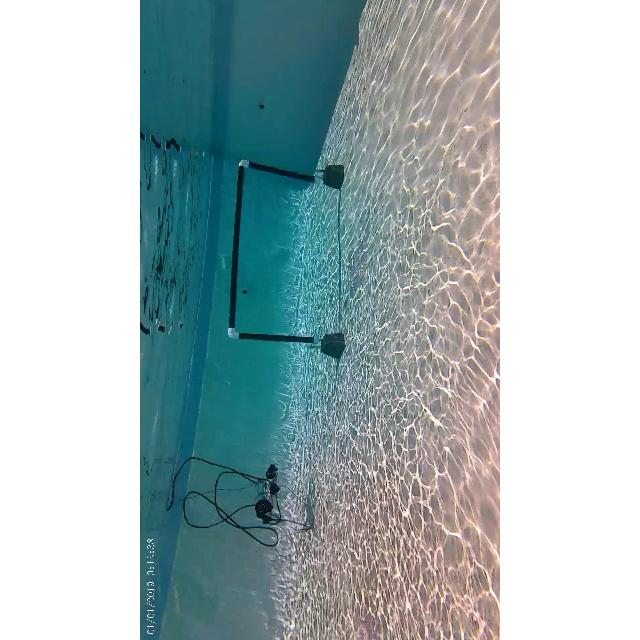prequal gate: (228, 159, 322, 347)
prequal gate leg l: (226, 327, 320, 351)
prequal gate leg r: (237, 156, 321, 184)
